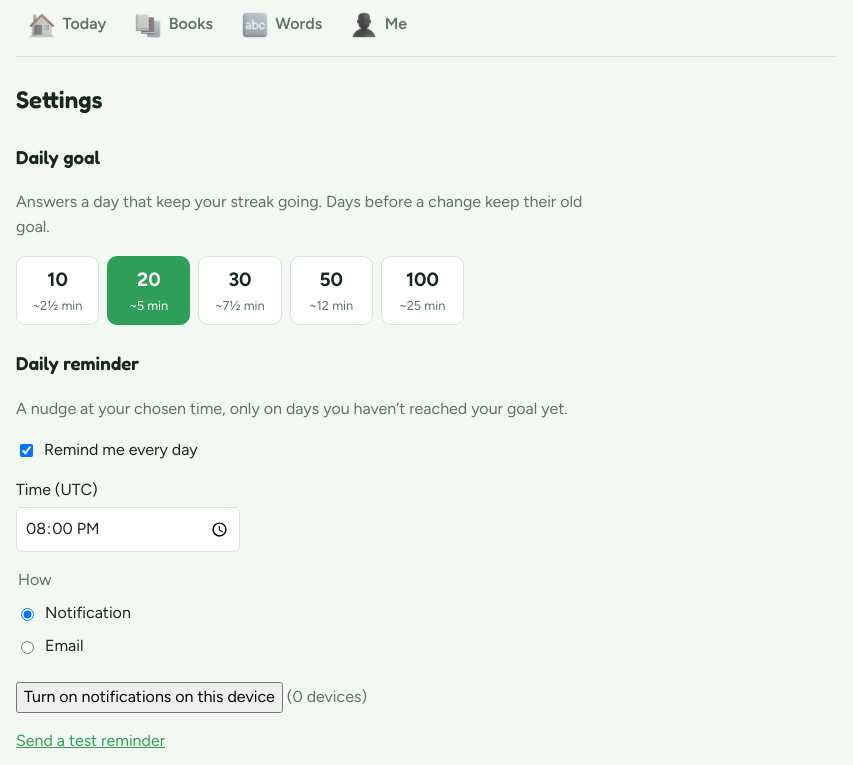
Test: daily reminder settings › turns on notifications on this device
The image size is (853, 765).
(page scrolled)
Step 1. Click the button "Turn on notifications on this device" → (149, 698), box 16,682 -> 283,713
(page scrolled)
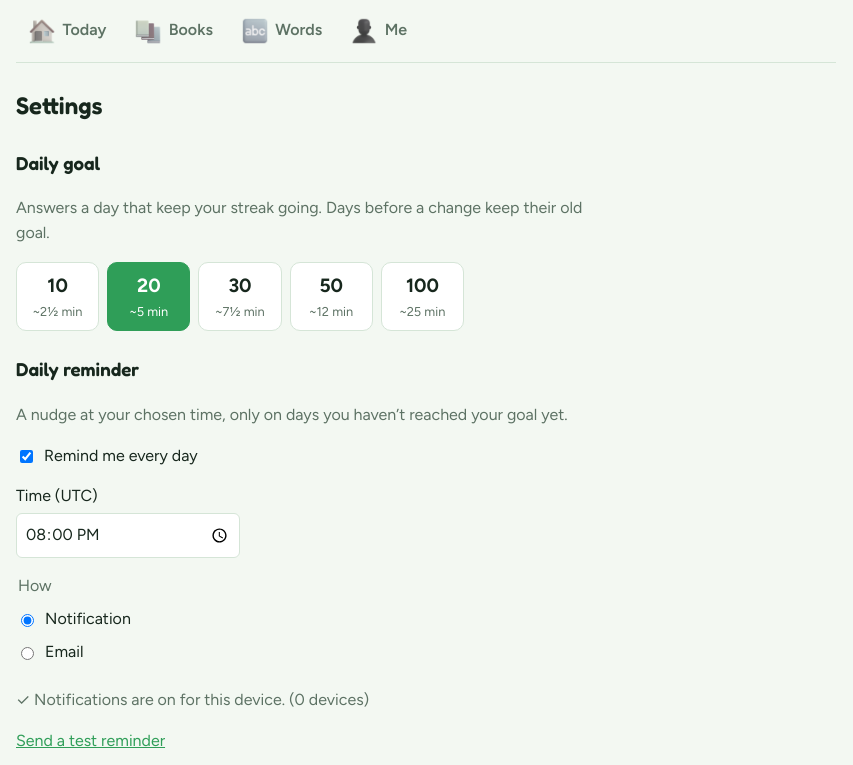
Result: the text "✓ Notifications are on for this device." is shown at 16,690 -> 285,709
